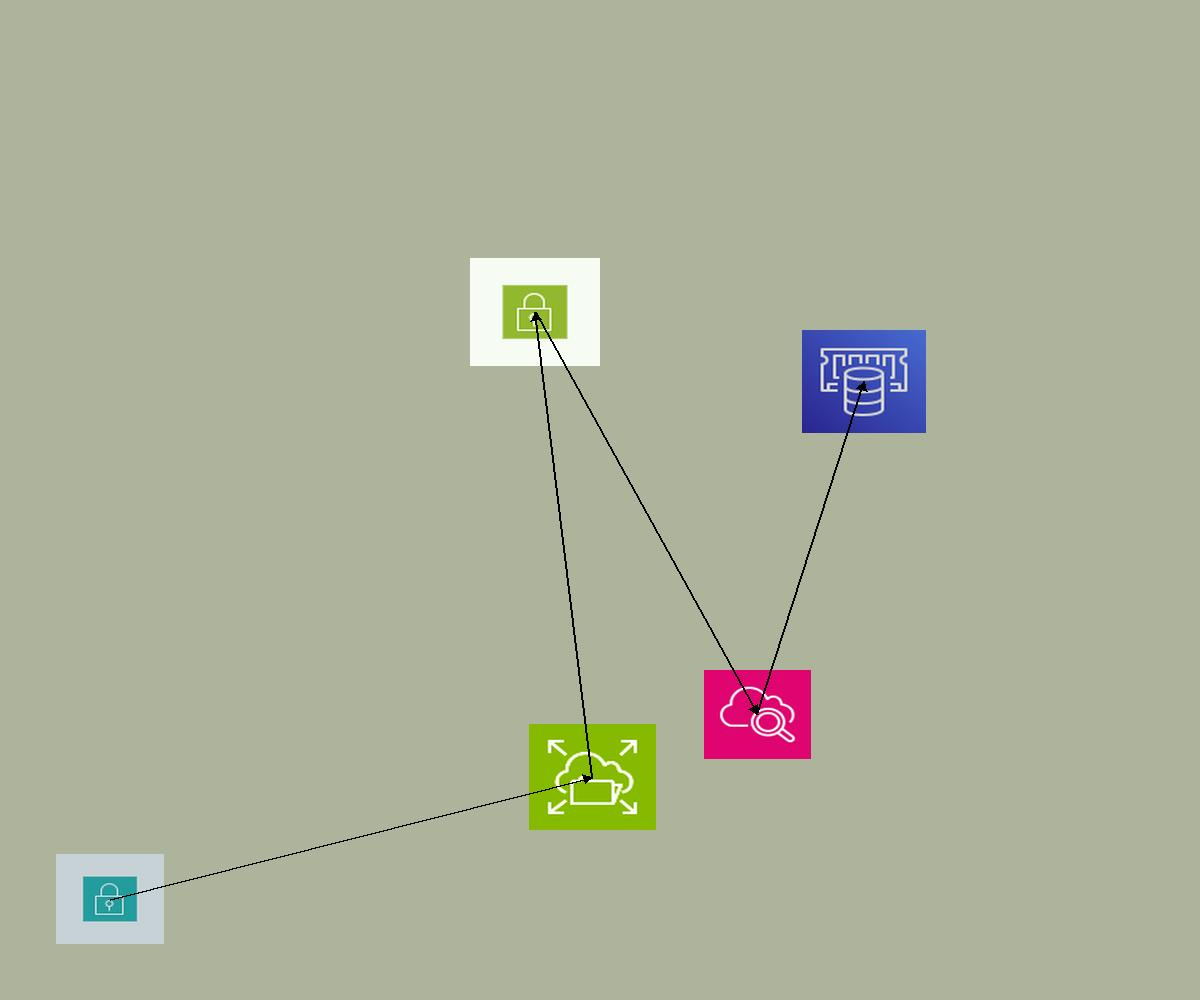AWS-CloudWatch: (704, 670, 811, 759)
AWS-EFS: (529, 724, 656, 830)
AWS-ElastiCache: (802, 330, 926, 433)
AWS-Private-subnet: (56, 854, 164, 944)
AWS-Public-subnet: (470, 258, 600, 366)
